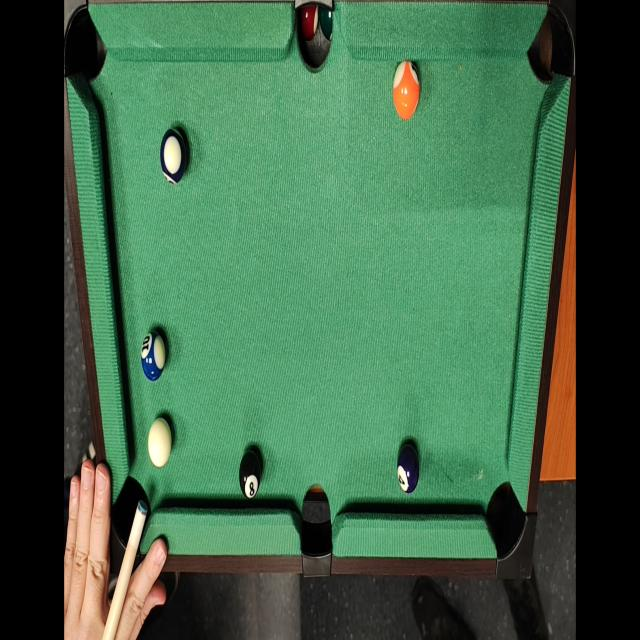cue ball: (145, 417, 174, 470)
other: (392, 58, 422, 120), (138, 331, 168, 386), (158, 129, 187, 185), (394, 443, 422, 500), (237, 446, 263, 500)
